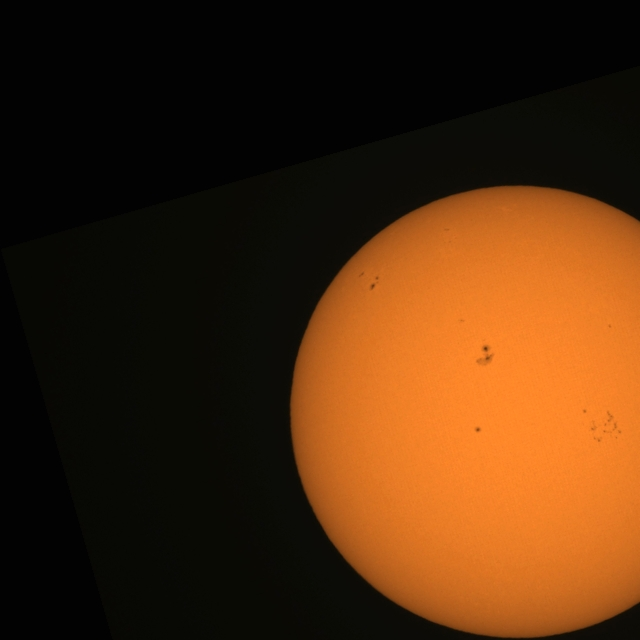sunspot: (589, 410, 622, 444), (474, 343, 496, 367), (368, 274, 380, 292), (474, 426, 482, 433), (358, 271, 365, 278), (458, 318, 465, 324), (582, 408, 587, 414), (607, 324, 612, 329)
